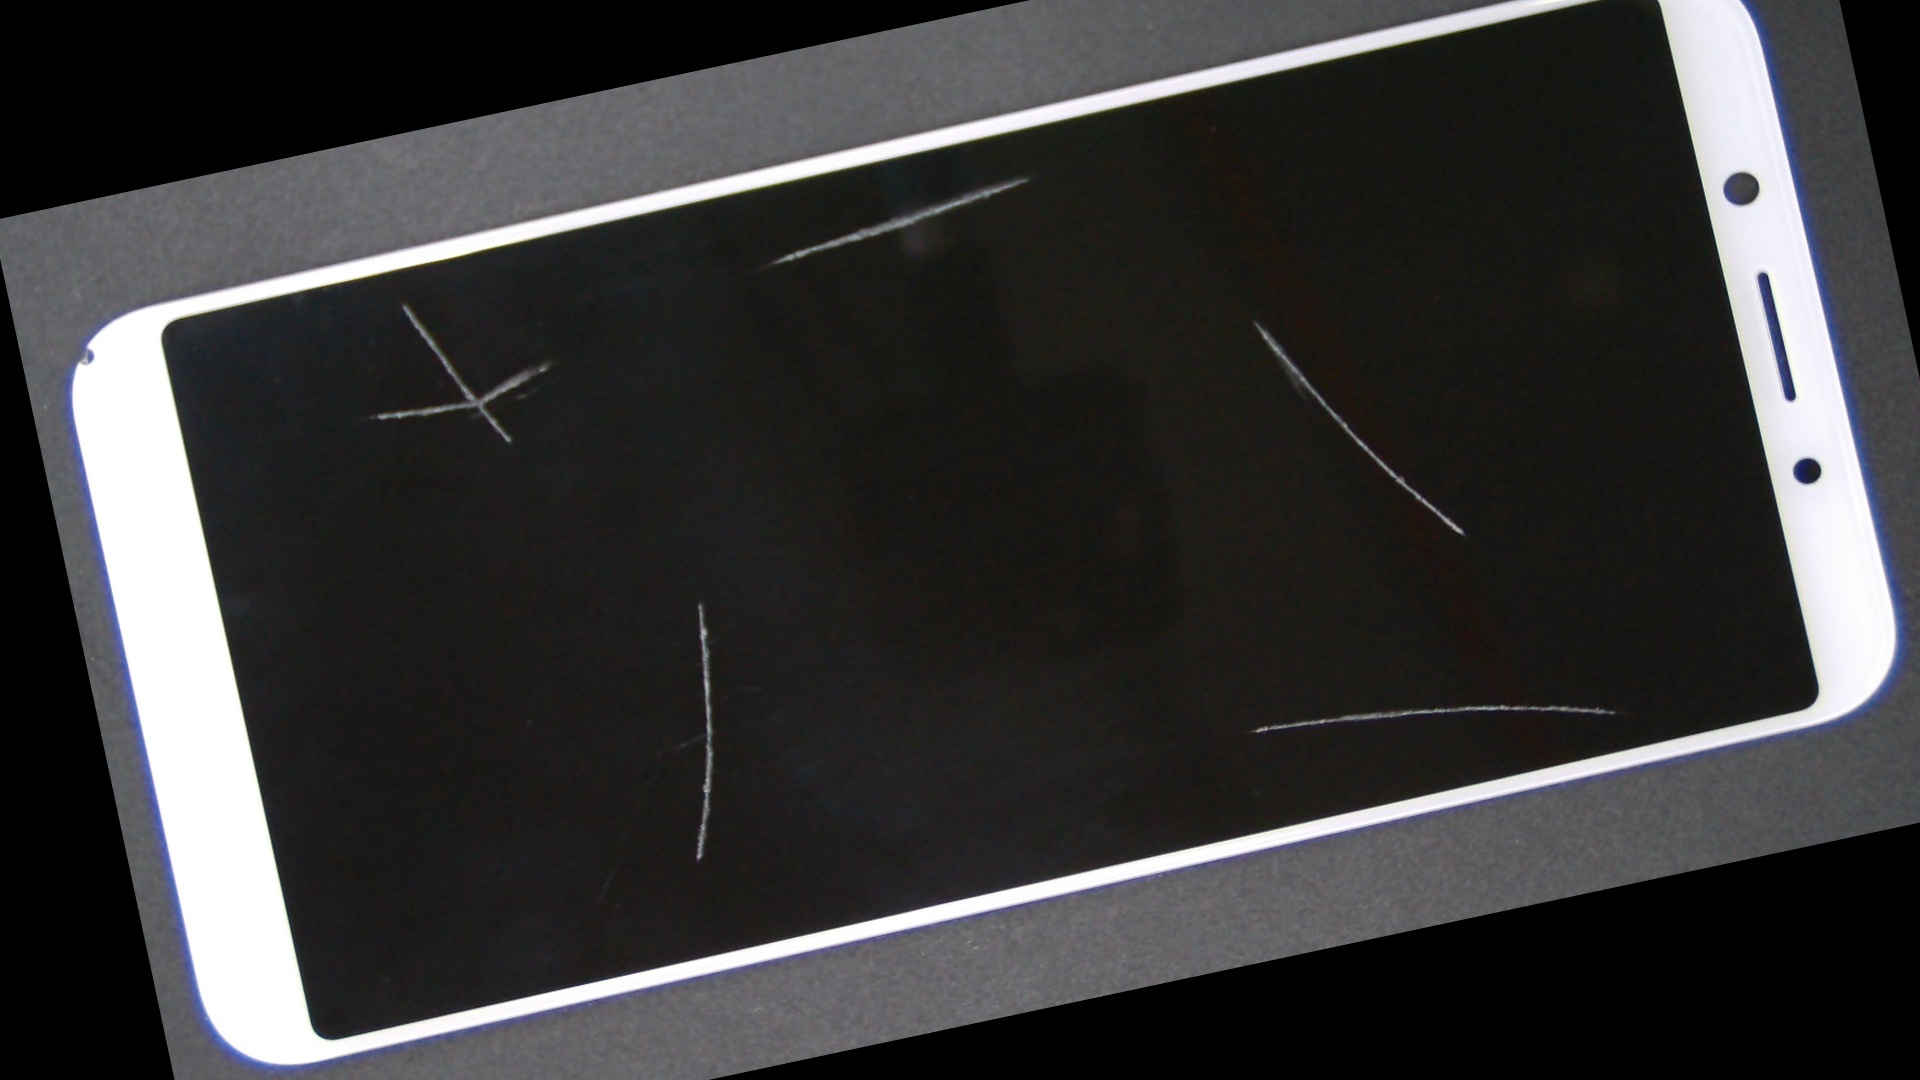oil: (625, 237, 1859, 1071), (624, 17, 1884, 620), (345, 284, 1052, 919), (501, 0, 1518, 367), (196, 182, 607, 425)
